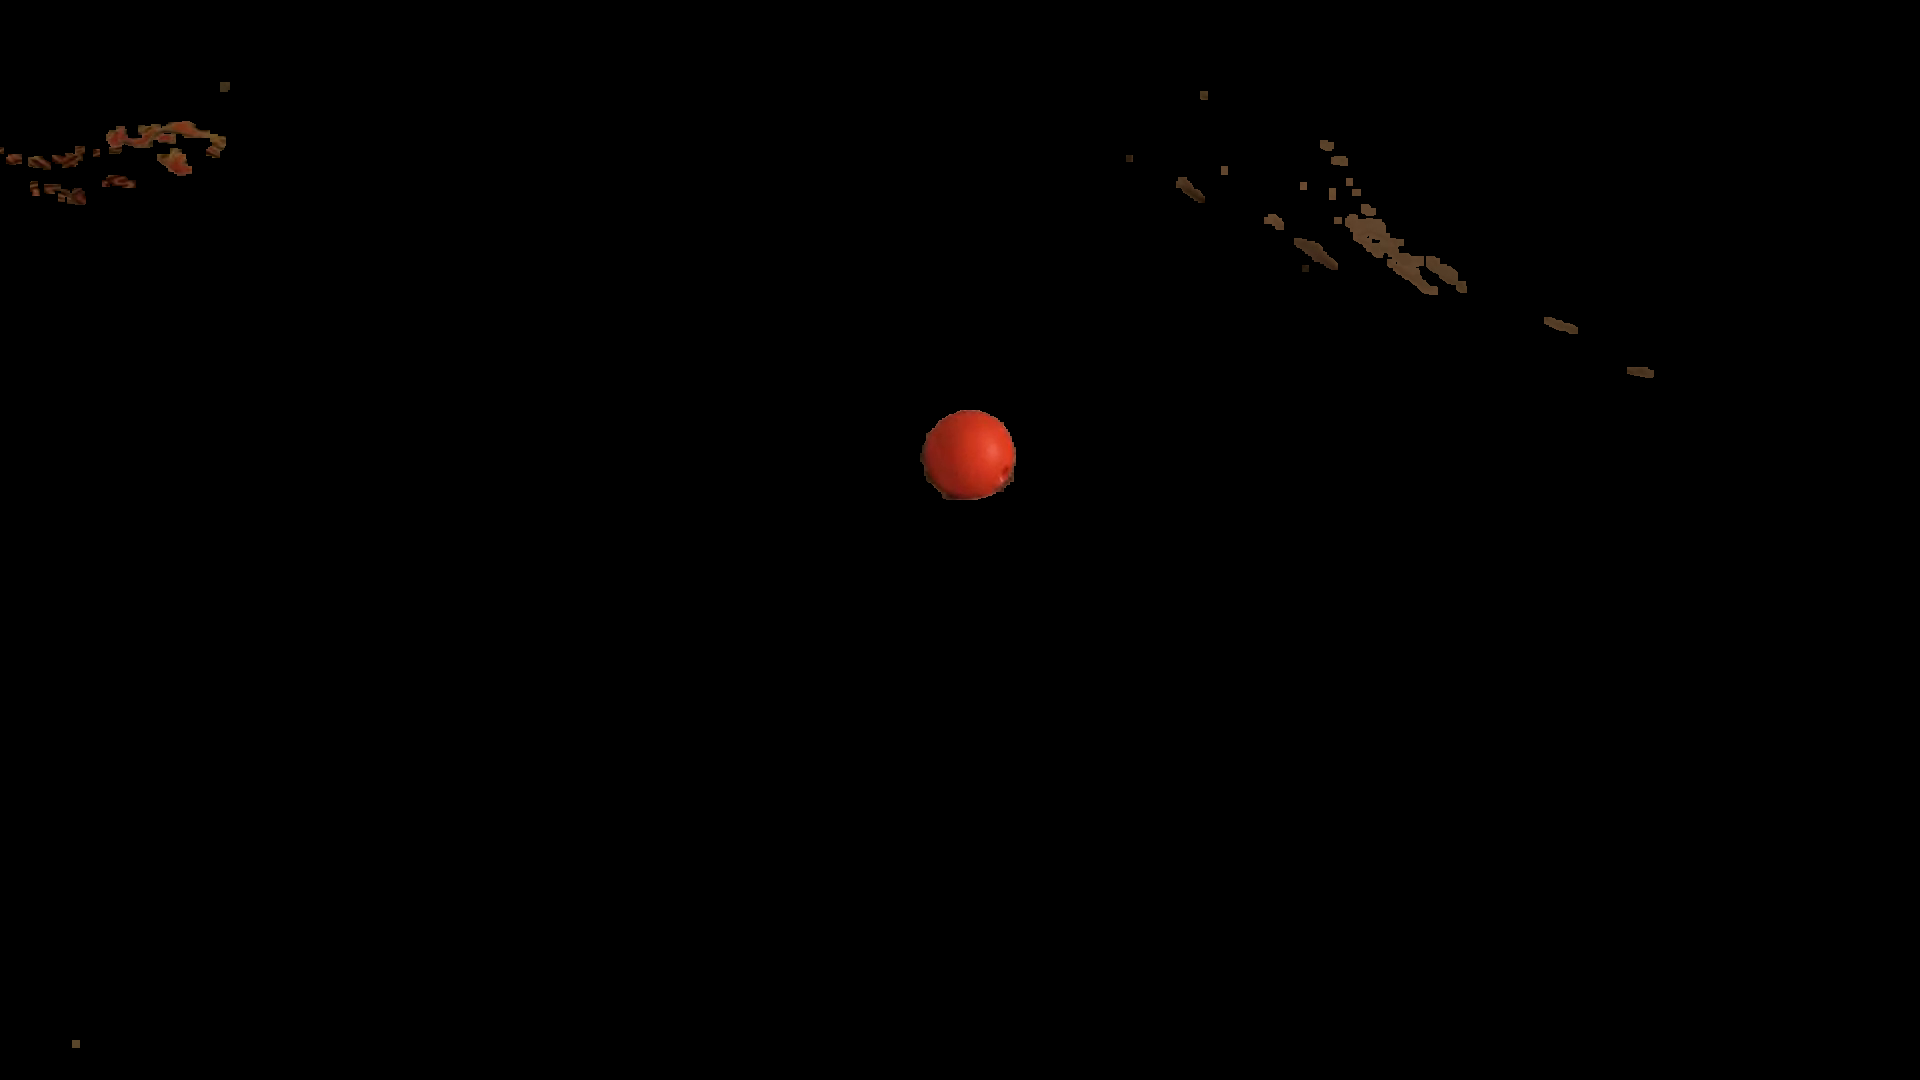Ball: (926, 409, 1021, 500)
